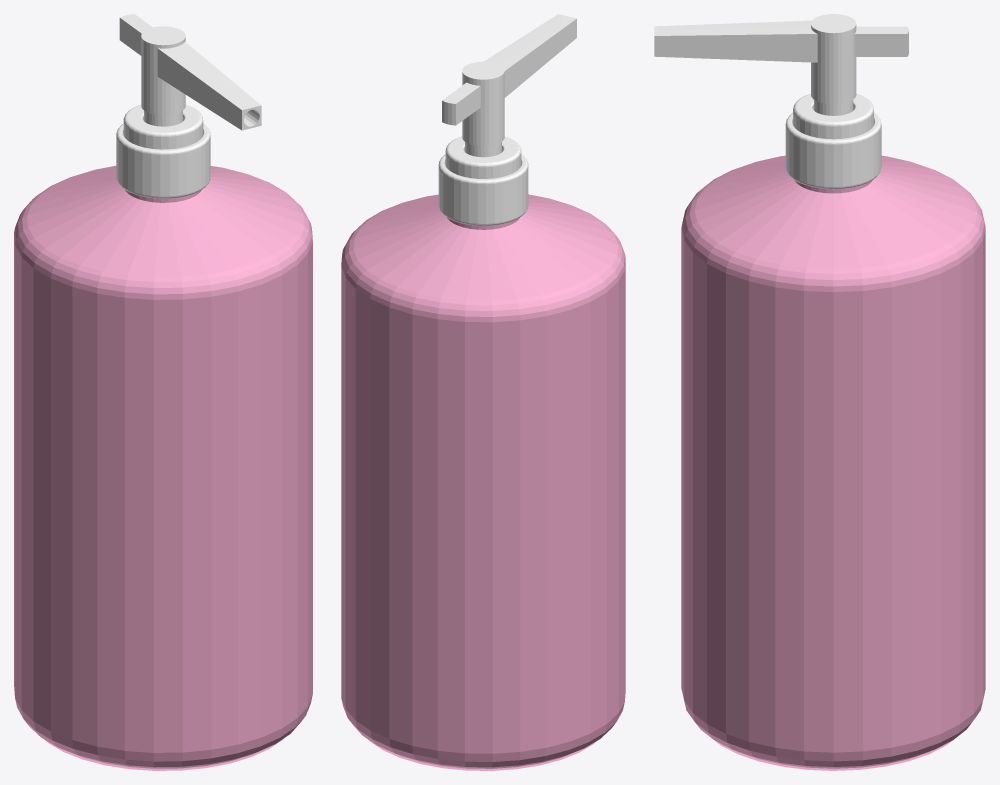
File: Soap Bottle.glb
3 views of the same model, side by side, from view 1: azimuth 30°, elevation 25°; view 2: azimuth 150°, elevation 25°; view 3: azimuth 270°, elevation 25° (orthographic). The views are drawn at different scales.
Parts seen in each view (by area): view 1: Circle, Circle.003, Circle.001, Circle.002; view 2: Circle, Circle.003, Circle.001, Circle.002; view 3: Circle, Circle.003, Circle.001, Circle.002.
Part boxes in pixels (x1,y1,x2,y2): Circle: (14,165,312,770); Circle.003: (119,14,261,130); Circle.001: (116,123,210,198); Circle.002: (123,104,203,149); Circle: (341,194,625,770); Circle.003: (442,14,576,157); Circle.001: (438,154,528,225); Circle.002: (445,136,521,178); Circle: (681,155,985,770); Circle.003: (654,14,908,115); Circle.001: (785,113,881,189); Circle.002: (793,93,873,139).
Bounding box in the file's own units: 11.62 × 29.07 × 12.66.
4 materials, 1 textured.
